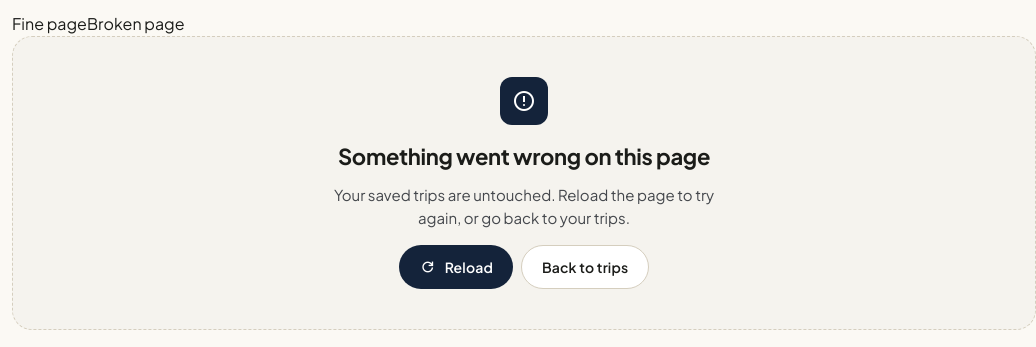
Test: RouteErrorBoundary › takes the traveller back to their trips without a reload
The image size is (1036, 347).
Click the link "Back to trips" at {"x": 585, "y": 267}, box [521, 245, 649, 289]
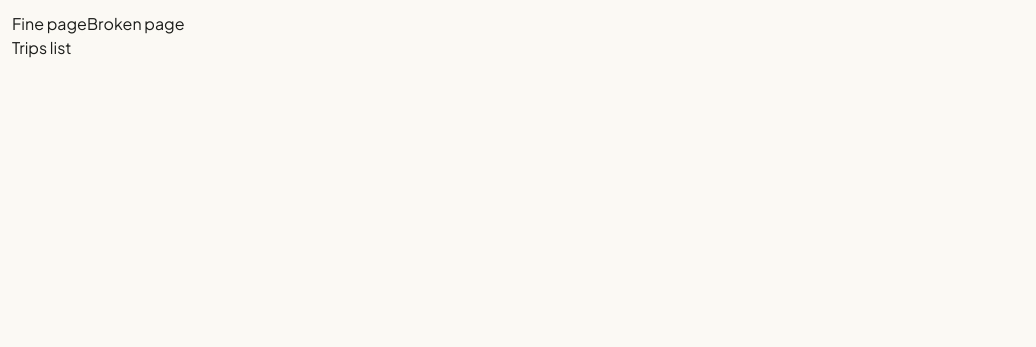
Check: the text "Trips list" is shown, box [12, 37, 72, 58]
